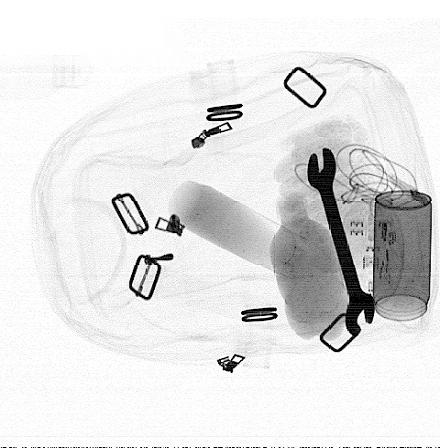Wrench: (307, 146, 376, 339)
